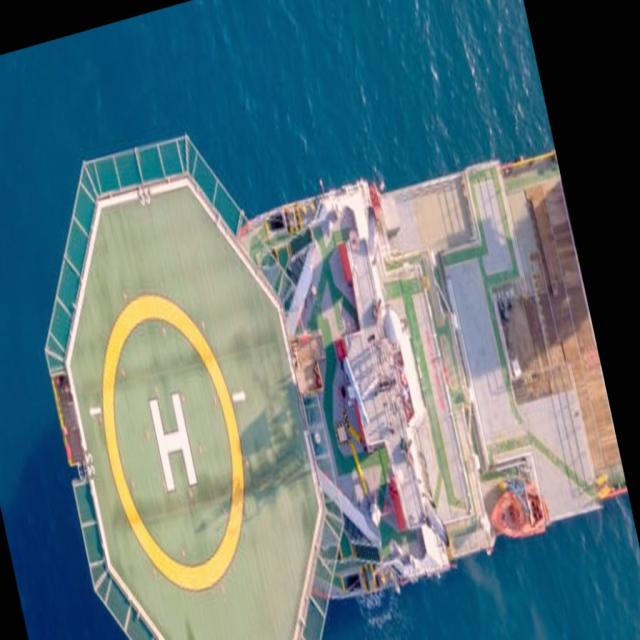helipad: (99, 284, 247, 596)
